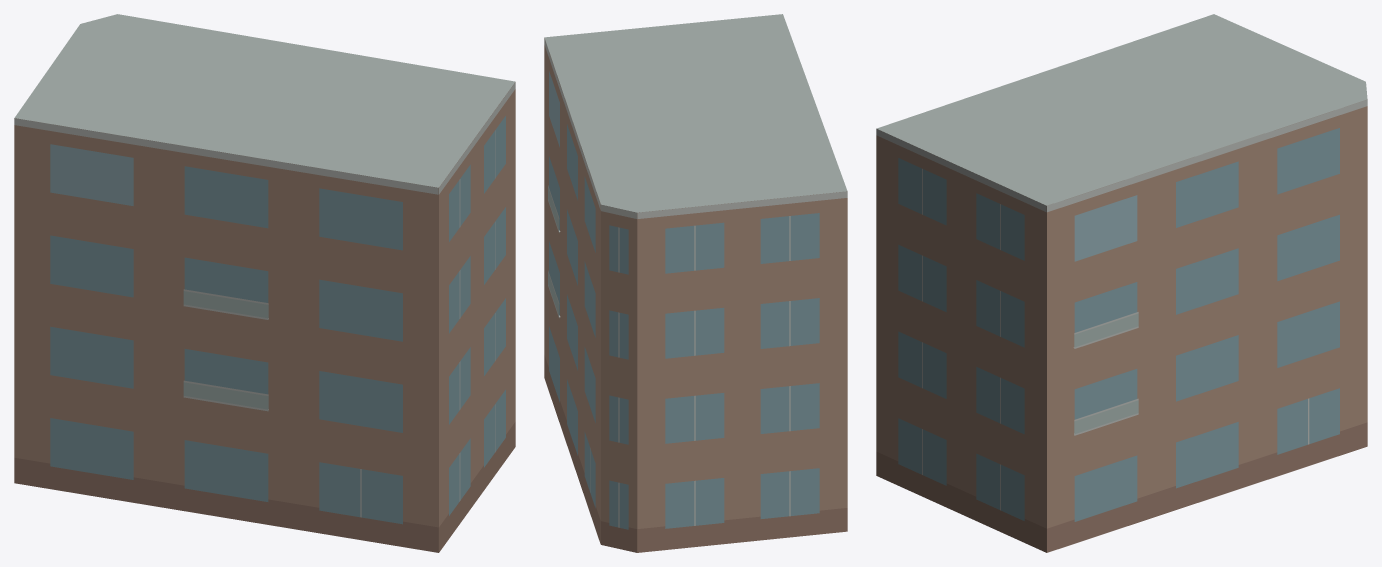
Rendered from survey-upis-32670403.glb.
The picture shows the model from 3 angles, left to right: view 1: azimuth 30°, elevation 25°; view 2: azimuth 150°, elevation 25°; view 3: azimuth 270°, elevation 25°; orthographic projection. The views are drawn at different scales.
Visible parts, largest first — view 1: survey-upis-32670403.tmp; view 2: survey-upis-32670403.tmp; view 3: survey-upis-32670403.tmp.
Part boxes in pixels (x1,y1,x2,y2): survey-upis-32670403.tmp: (14, 14, 515, 552); survey-upis-32670403.tmp: (544, 14, 847, 552); survey-upis-32670403.tmp: (876, 14, 1367, 552).
Bounding box in the file's own units: 15.06 × 12.7 × 16.3.
